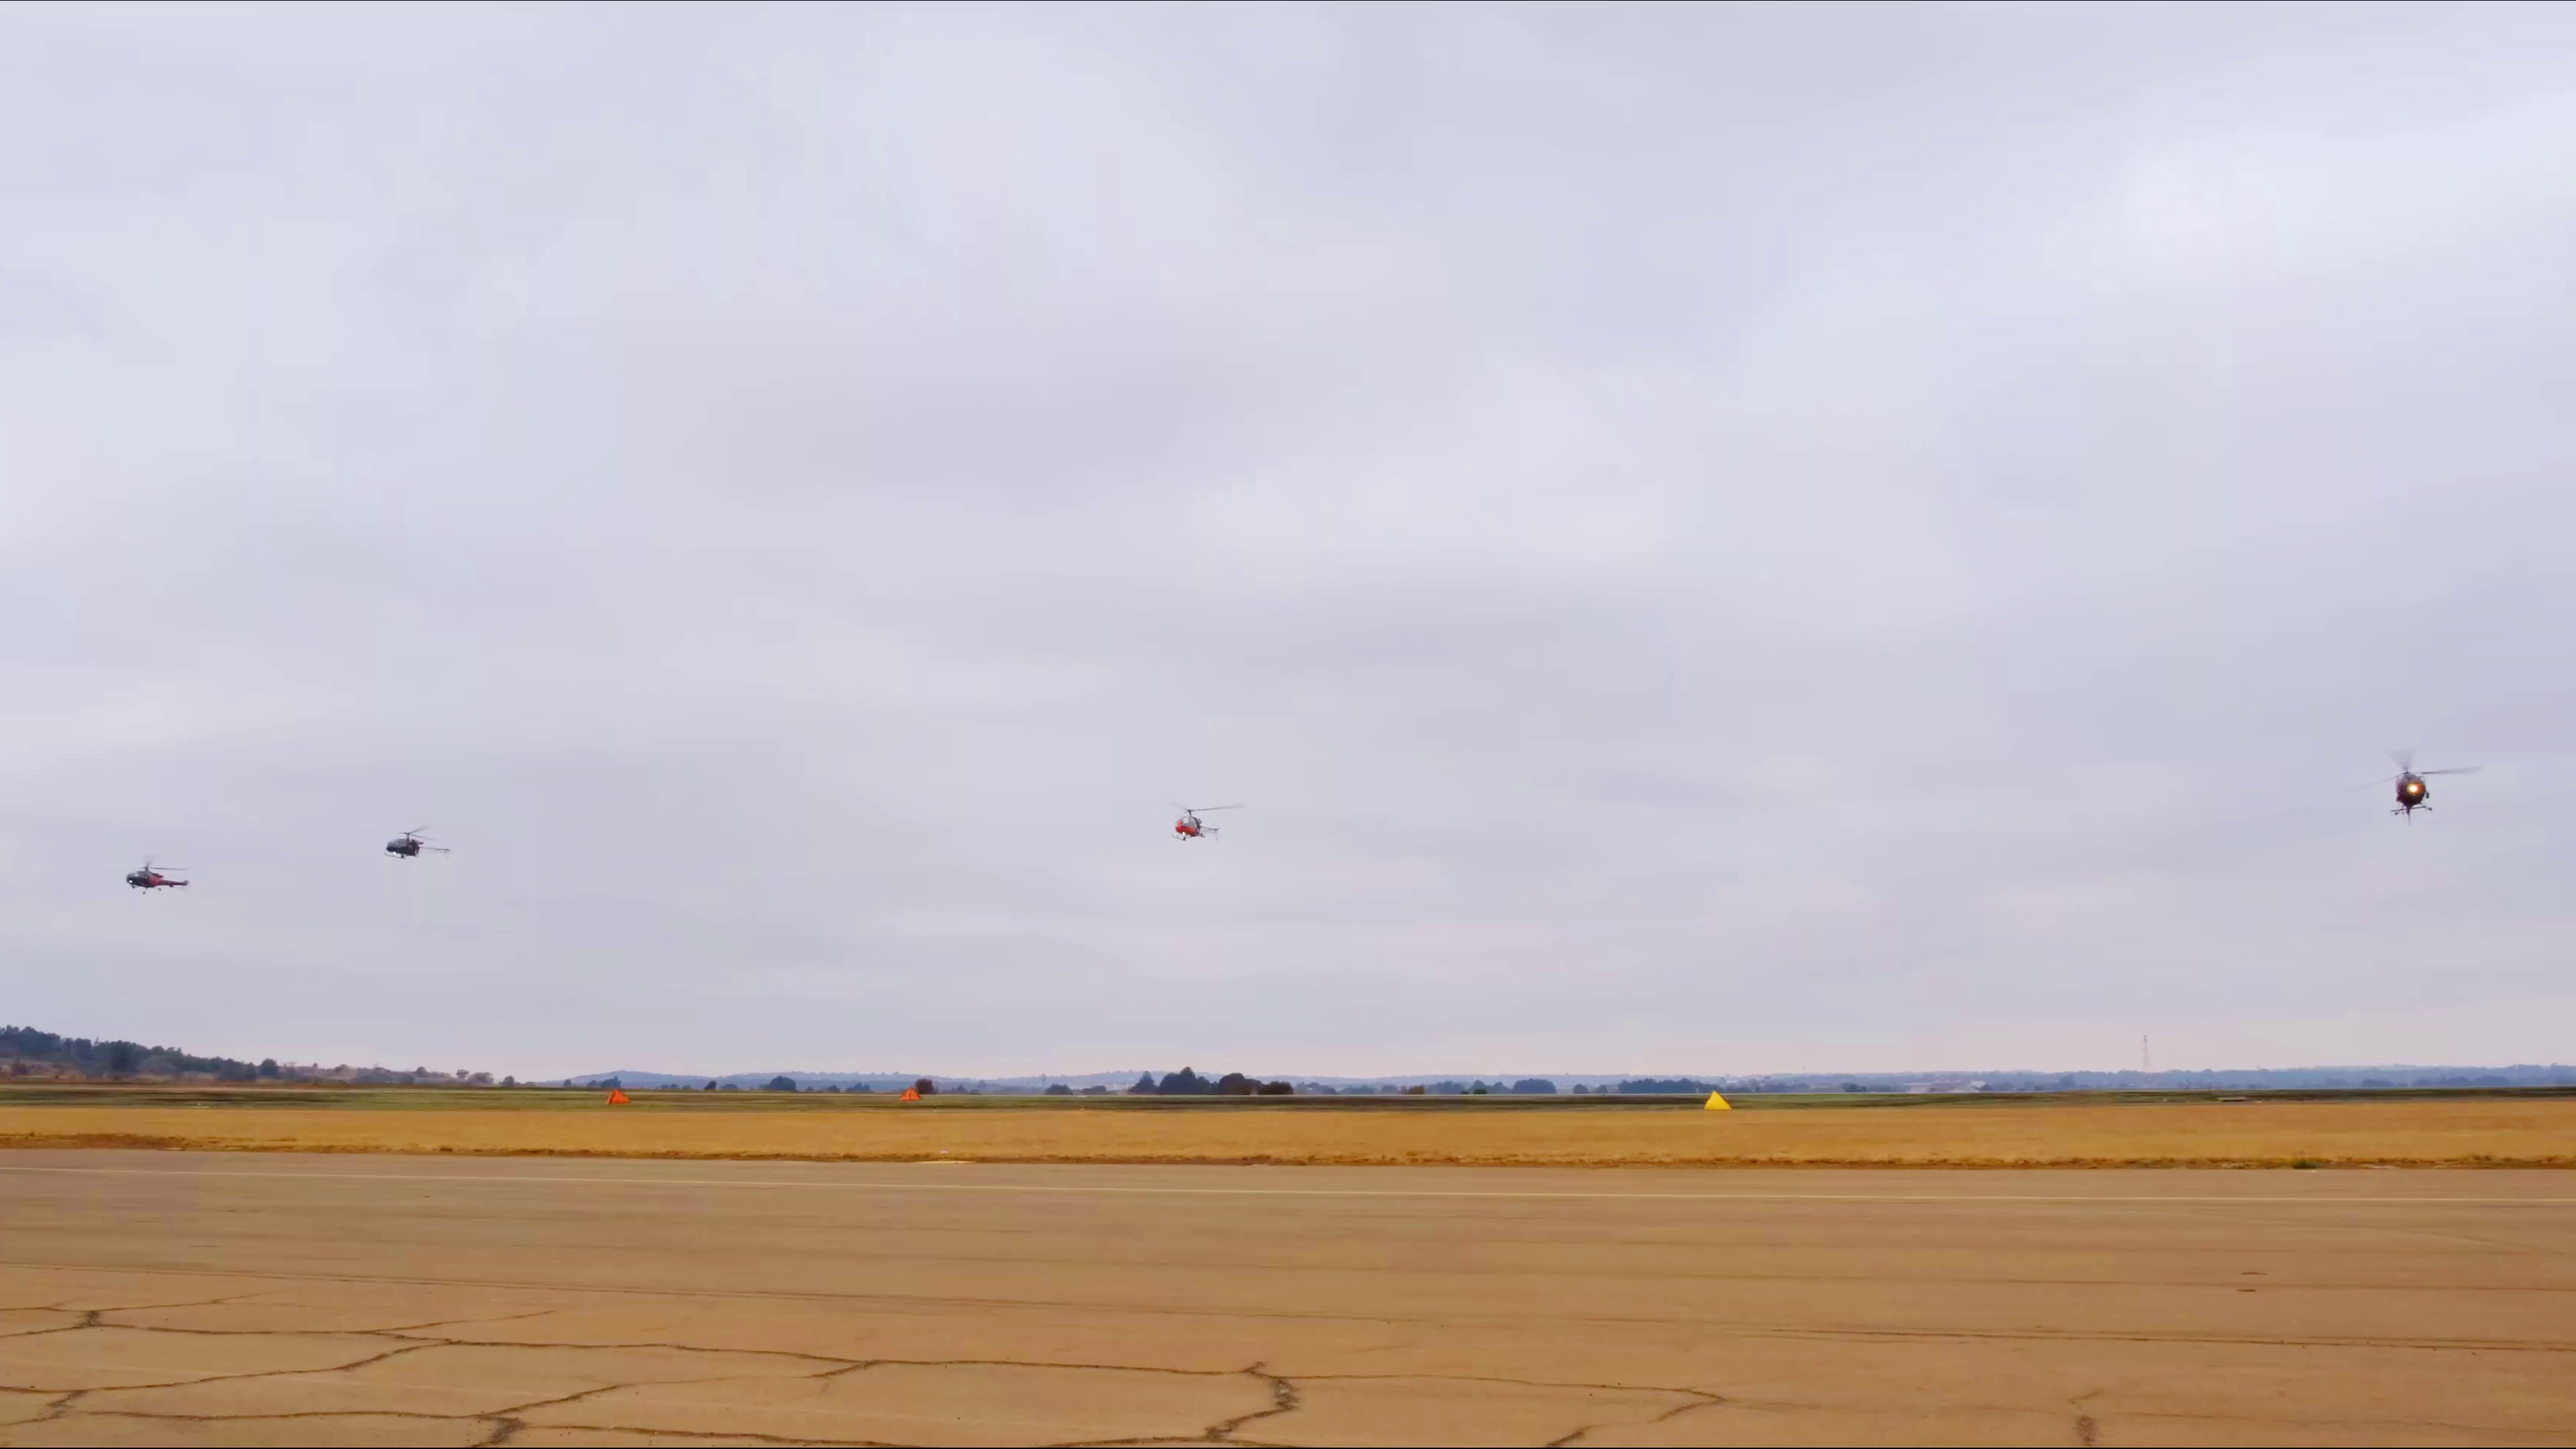heli: (2341, 752, 2475, 819), (1171, 803, 1242, 840), (386, 826, 451, 862), (126, 862, 191, 892)
